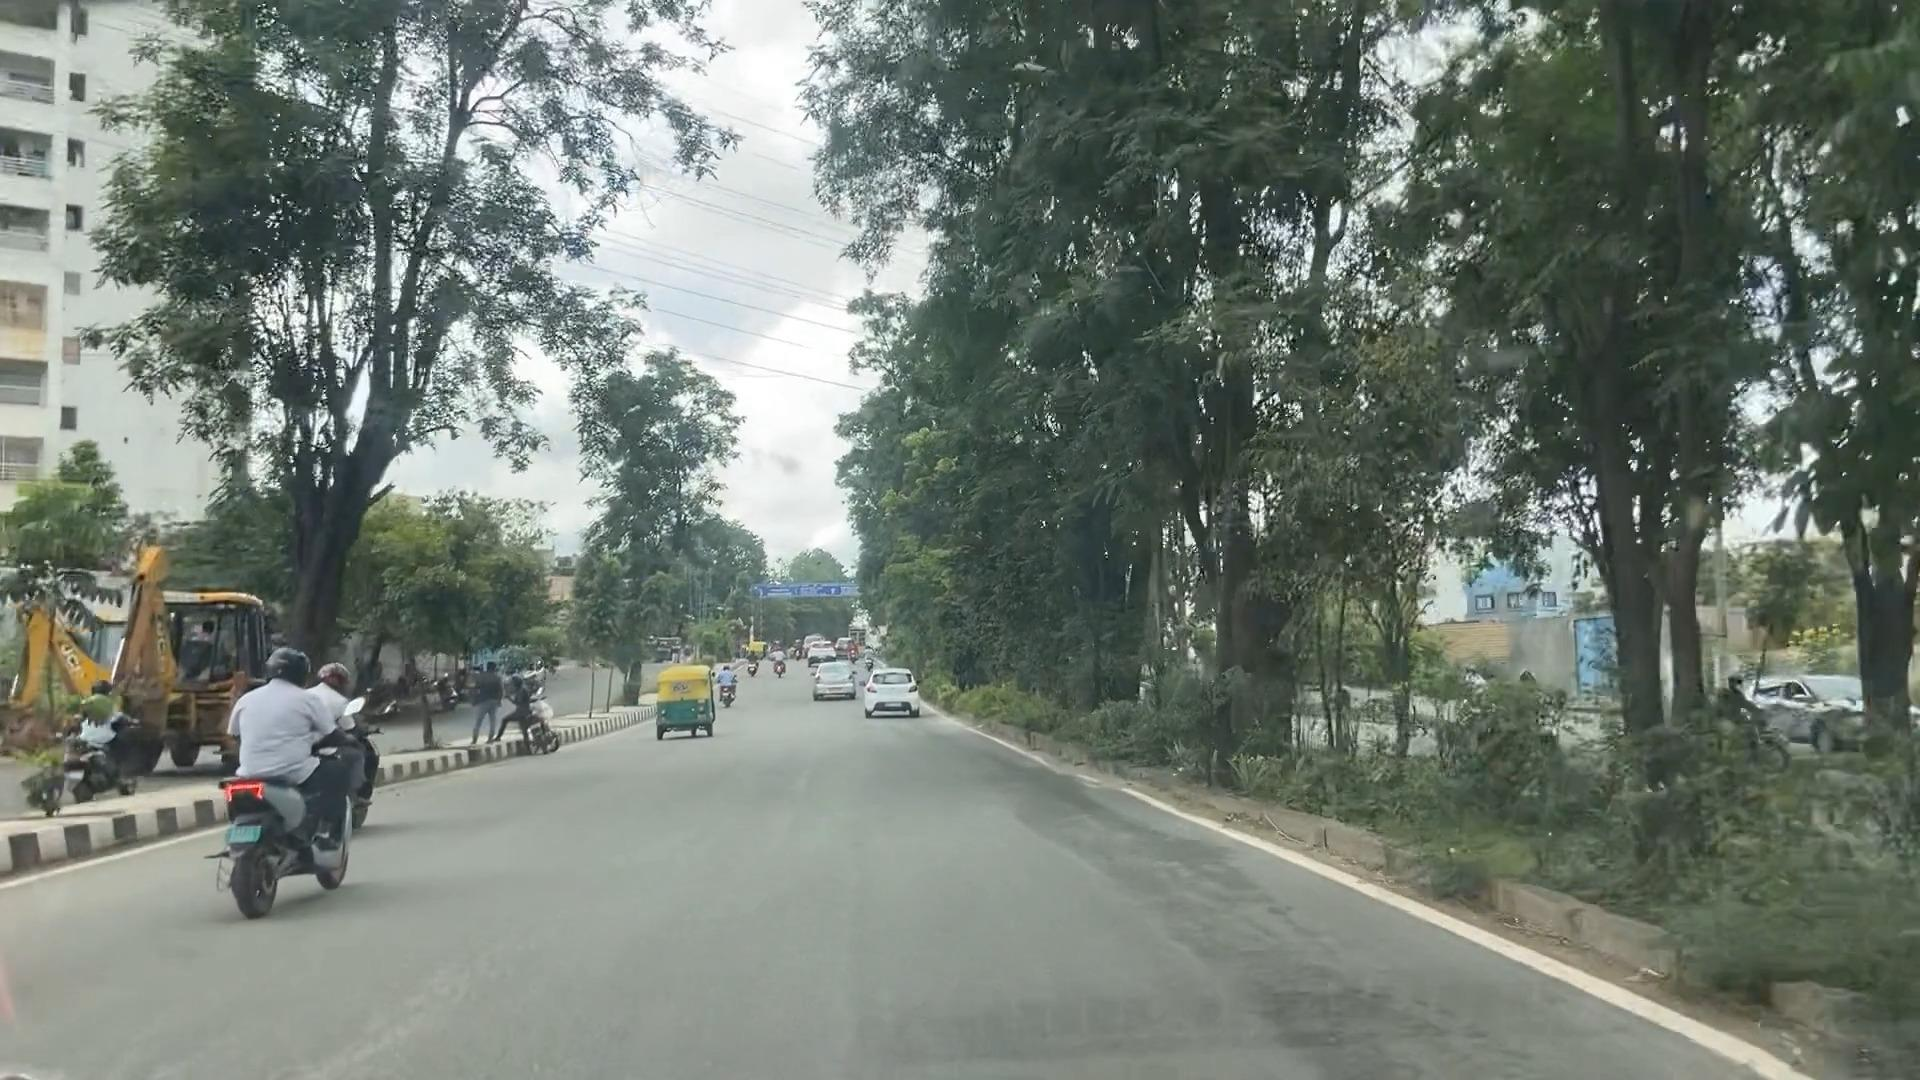LMV: (248, 650, 352, 890), (651, 654, 709, 748), (806, 661, 862, 713), (870, 665, 918, 721)
RoadDamages: (1193, 906, 1420, 1047), (1034, 758, 1178, 889), (1033, 984, 1168, 1068), (972, 738, 1038, 811)
